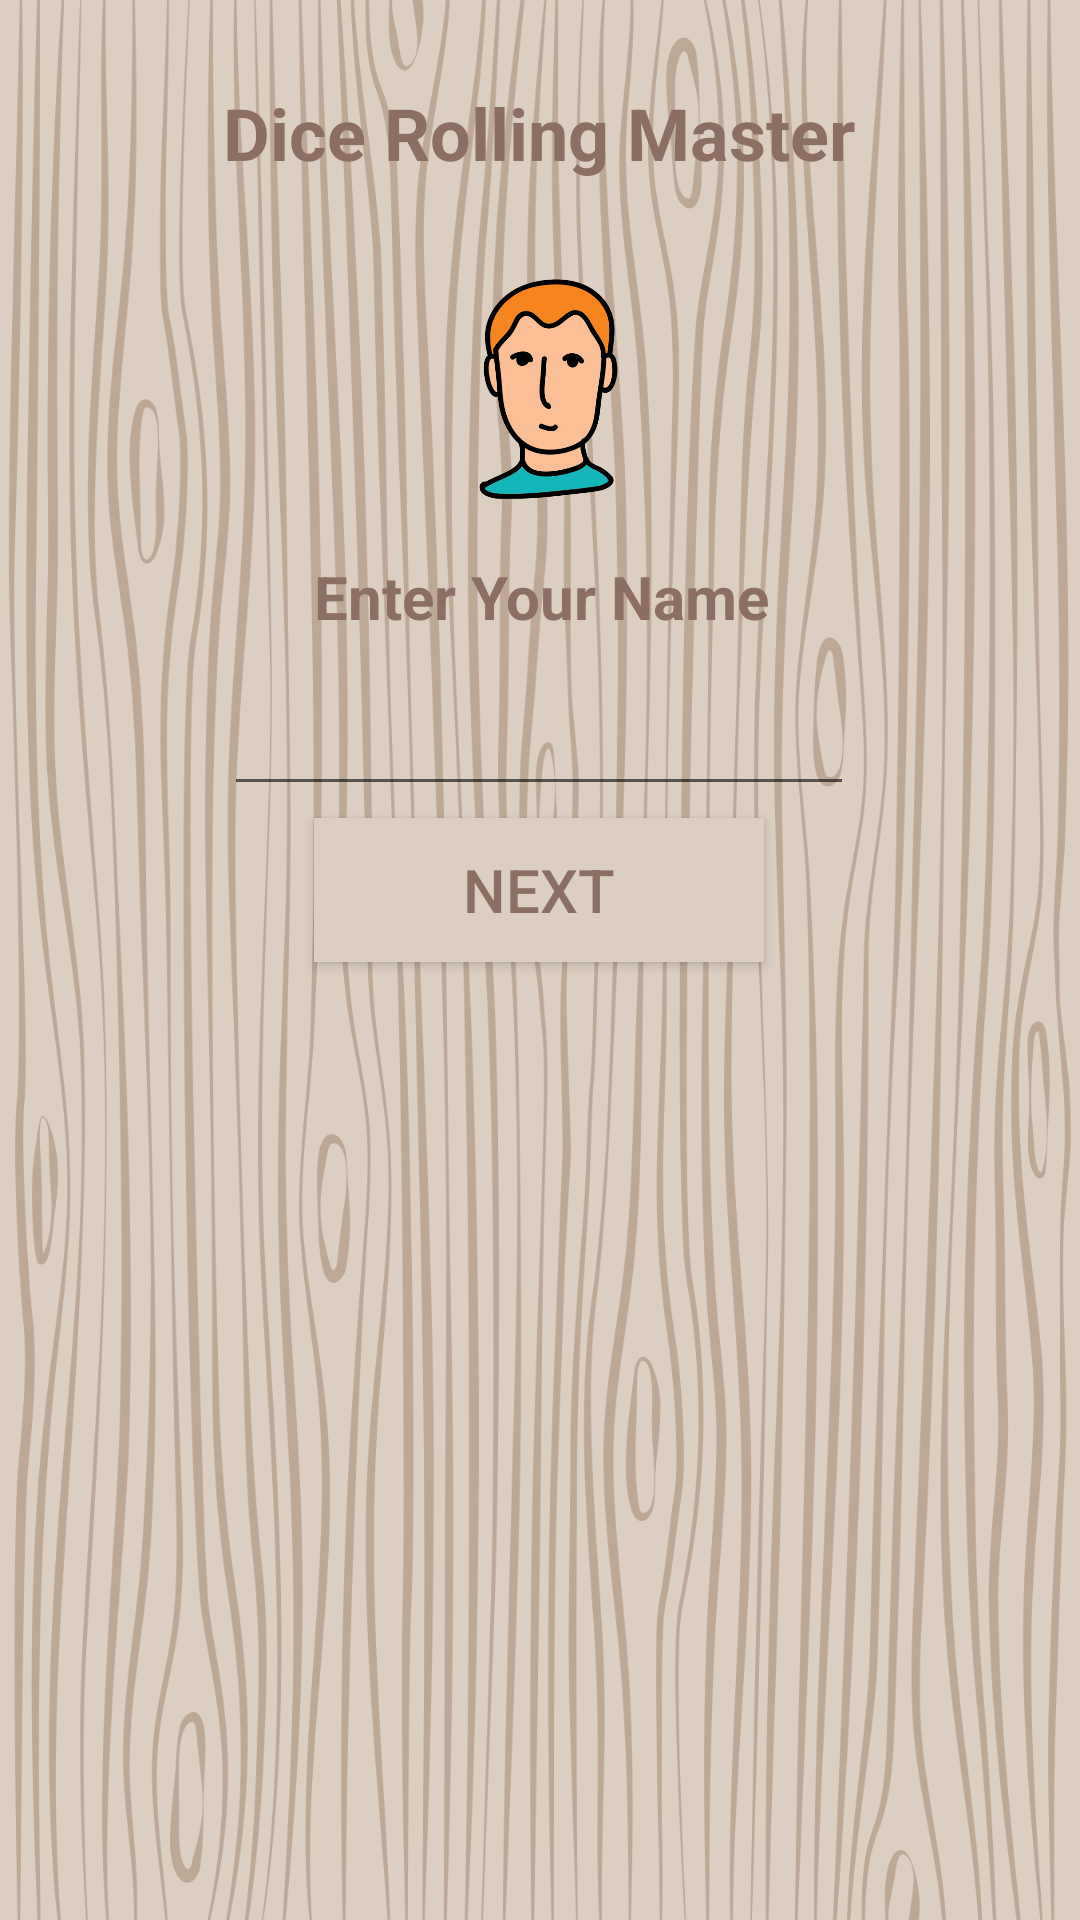

Named icons in this screenshot (1080 × 1920) and their centers, point (x, y):
user: point (542, 386)
